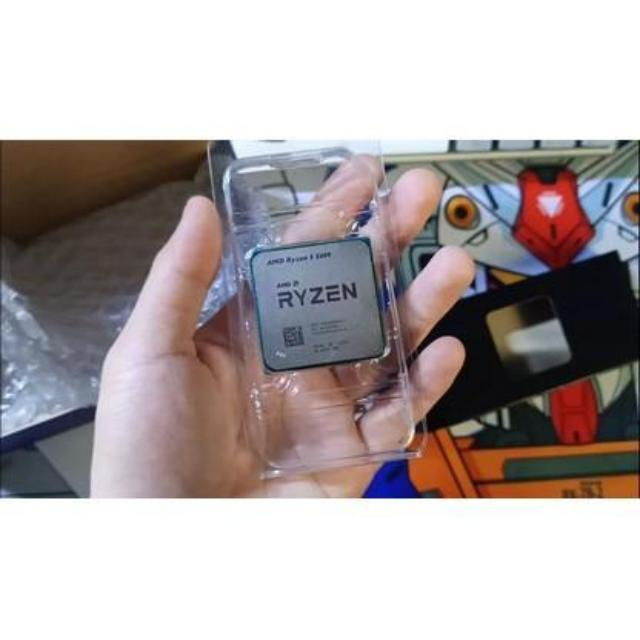CPU: (251, 236, 389, 370)
